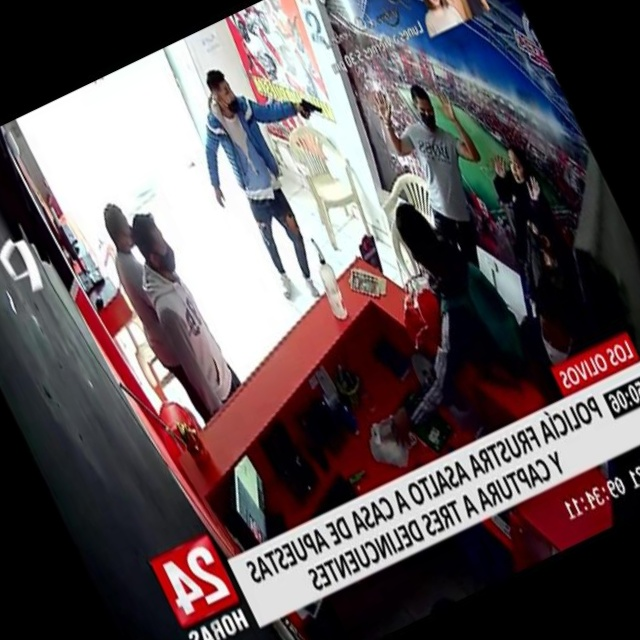gun: (285, 77, 339, 139)
